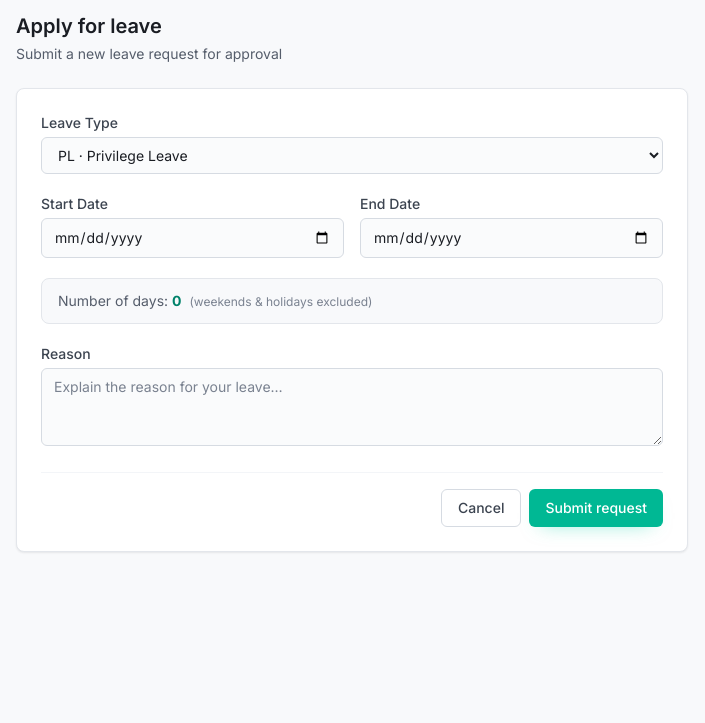
ApplyLeavePage - HPE Holiday to Use › shows the expiry of the selected entitlement
Select "CO · Compensatory Off" in the dropdown labelled "Leave Type" at (352, 156), box top-left (41, 137), bottom-right (663, 174)
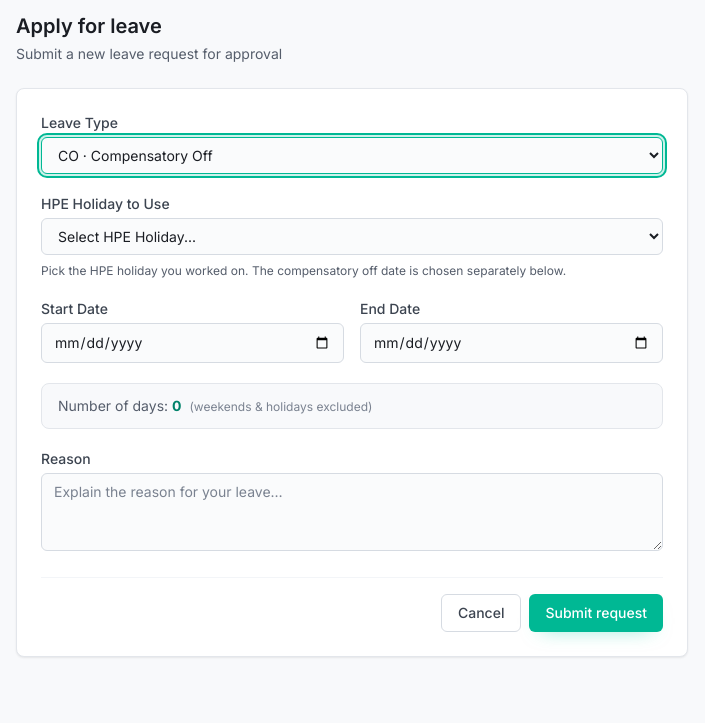
Select "Ganesh Chaturthi — Sep 14, 2026" in the dropdown labelled "HPE Holiday to Use" at (352, 236), box top-left (41, 218), bottom-right (663, 255)
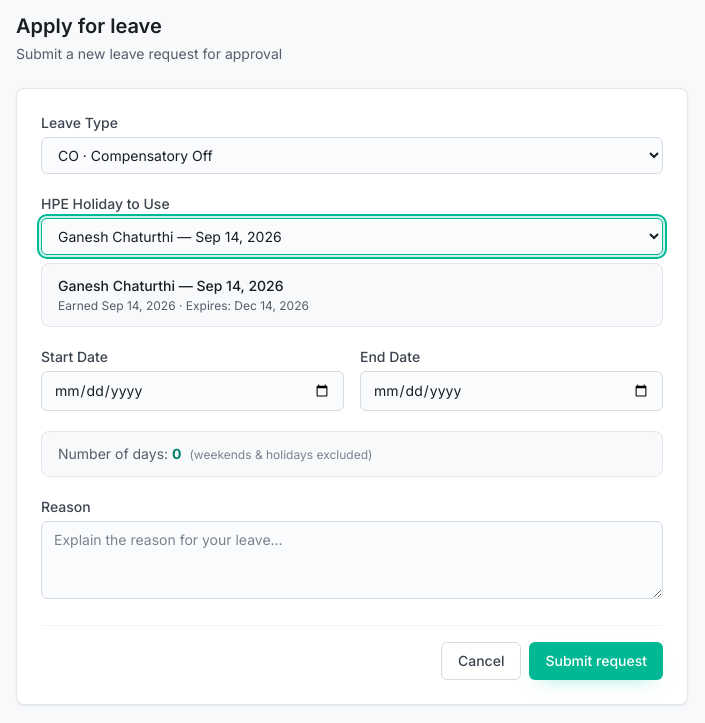
Expected: the text "Ganesh Chaturthi — Sep 14, 2026" shows "Earned Sep 14, 2026", top-left (41, 263), bottom-right (663, 327)
Expected: the text "Ganesh Chaturthi — Sep 14, 2026" shows "Expires: Dec 14, 2026", top-left (41, 263), bottom-right (663, 327)
